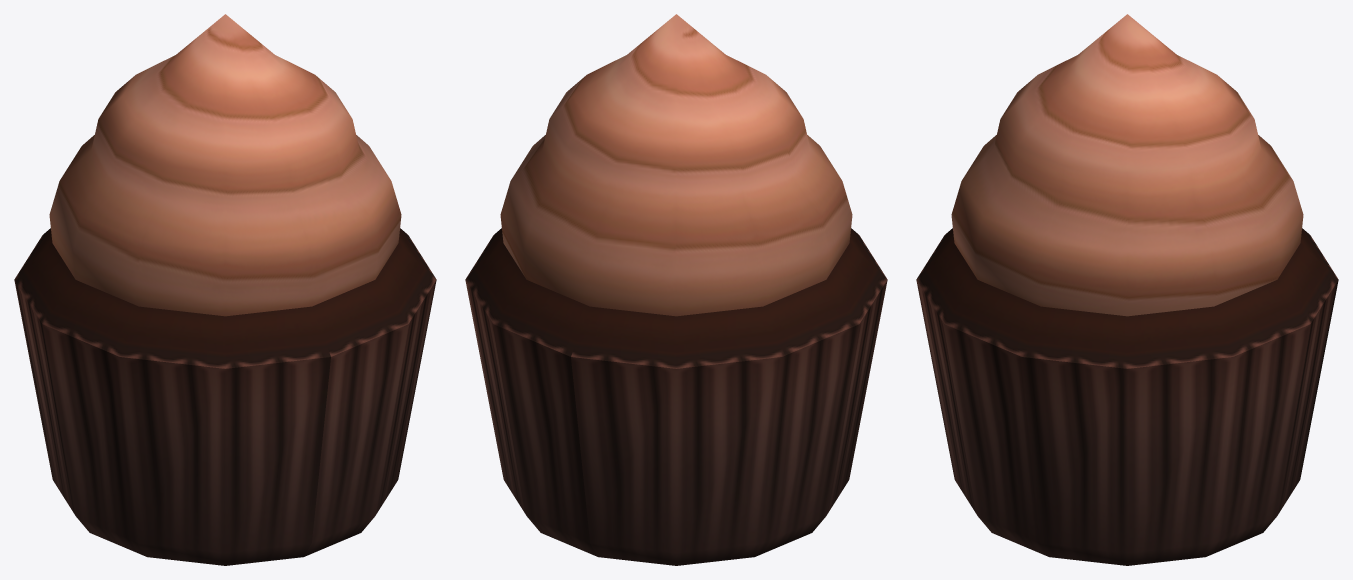
File: 009-Cupcakes_004.FBX
3 renders of one model, left to right at view 1: azimuth 30°, elevation 25°; view 2: azimuth 150°, elevation 25°; view 3: azimuth 270°, elevation 25°, orthographic.
Parts seen in each view (by area): view 1: 009-Cupcakes_004; view 2: 009-Cupcakes_004; view 3: 009-Cupcakes_004.
Part boxes in pixels (box(x1,y1,x2,y2)): 009-Cupcakes_004: box(14, 14, 436, 565); 009-Cupcakes_004: box(465, 14, 887, 565); 009-Cupcakes_004: box(916, 14, 1338, 565).
Size of the model in its own units: 12.34 by 15.65 by 12.34.
